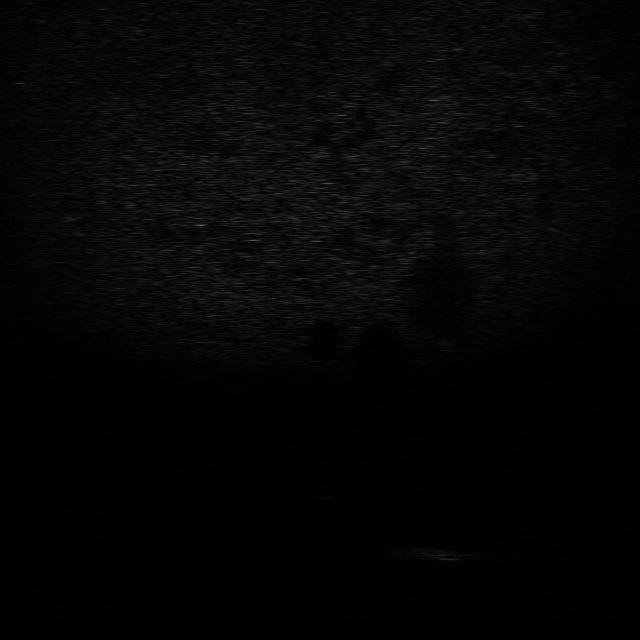ball: (306, 481, 342, 502)
metal bucket: (398, 540, 477, 563)
tyre: (350, 520, 401, 562)
